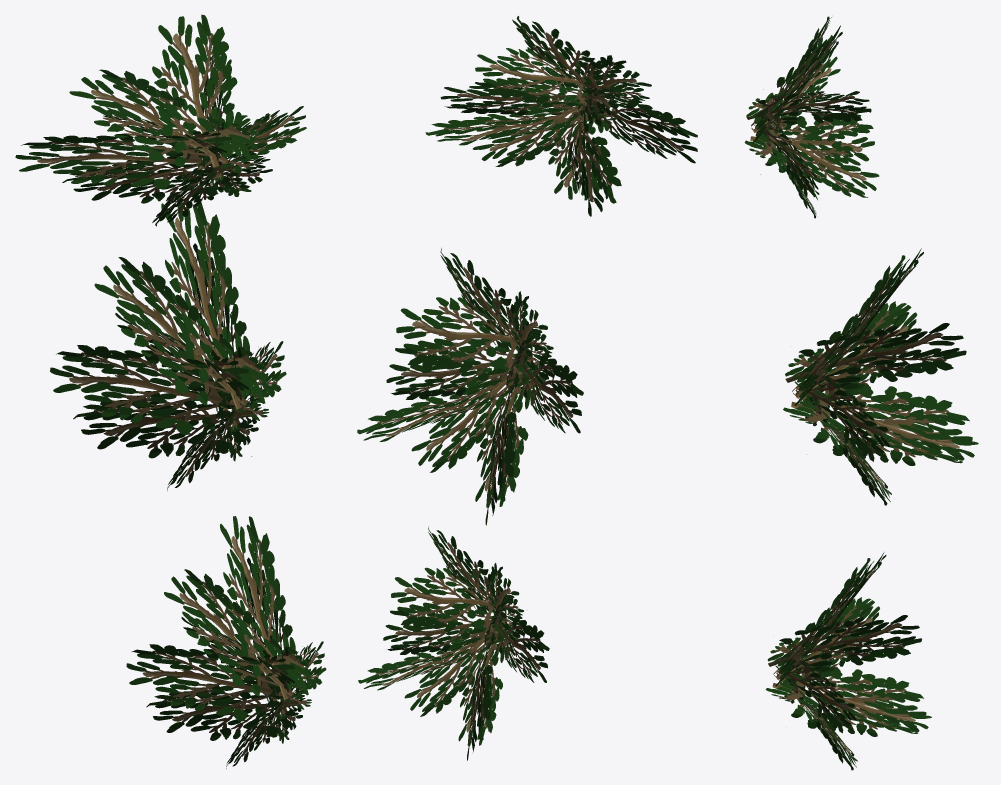
Rendered from Bush.fbx.
The picture shows the model from 3 angles, left to right: view 1: azimuth 30°, elevation 25°; view 2: azimuth 150°, elevation 25°; view 3: azimuth 270°, elevation 25°; orthographic projection. The views are drawn at different scales.
Parts seen in each view (by area): view 1: Plane.003, Plane.005, Plane.006; view 2: Plane.003, Plane.005, Plane.006; view 3: Plane.003, Plane.006, Plane.005.
Boxes of the visible parts, <box> form: Plane.003: <box>50,194,286,490</box>; Plane.005: <box>15,14,306,226</box>; Plane.006: <box>126,516,326,768</box>; Plane.003: <box>357,248,583,525</box>; Plane.005: <box>425,16,697,216</box>; Plane.006: <box>358,527,549,760</box>; Plane.003: <box>783,248,978,505</box>; Plane.006: <box>765,552,931,770</box>; Plane.005: <box>744,16,879,218</box>.
Size of the model in its own units: 1146 by 2625 by 863.
1 material, 1 textured.
